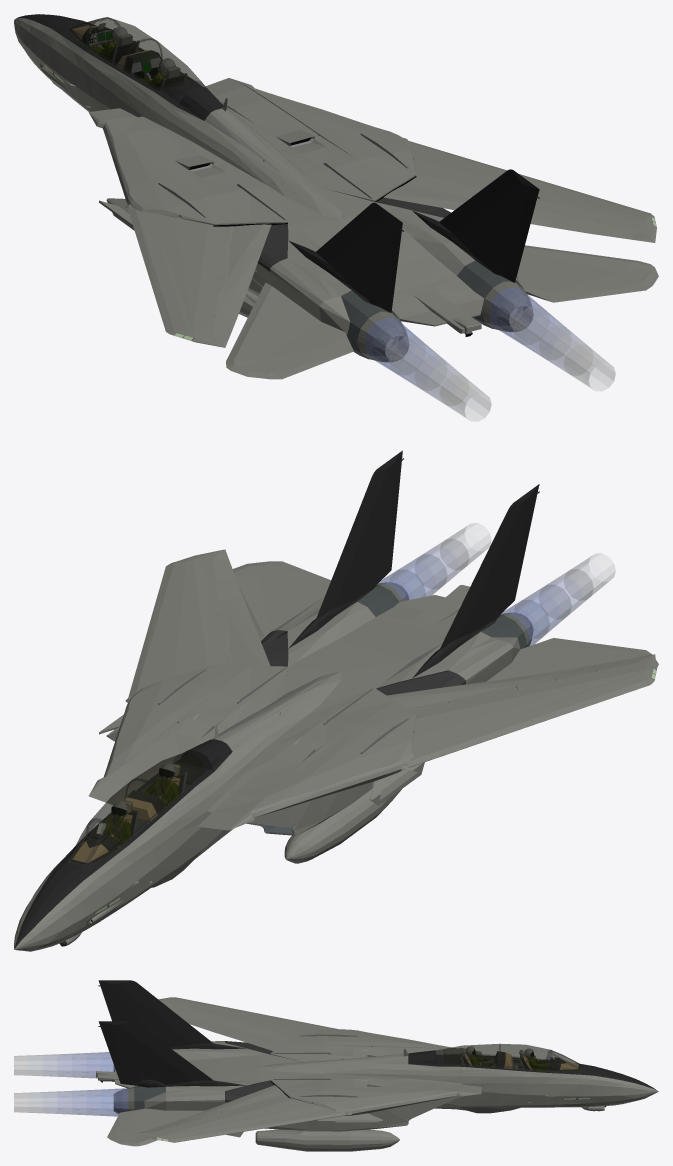
The picture shows the model from 3 angles, top to bottom: view 1: azimuth 30°, elevation 25°; view 2: azimuth 150°, elevation 25°; view 3: azimuth 270°, elevation 25°; orthographic projection. The views are drawn at different scales.
Visible parts, largest first — view 1: ShapeIndexedFaceSet_ShapeIndexedFaceSet.001, ShapeIndexedFaceSet.009_ShapeIndexedFaceSet.010, ShapeIndexedFaceSet.081_ShapeIndexedFaceSet.082, ShapeIndexedFaceSet.006_ShapeIndexedFaceSet.007, ShapeIndexedFaceSet.032_ShapeIndexedFaceSet.033, ShapeIndexedFaceSet.082_ShapeIndexedFaceSet.083, ShapeIndexedFaceSet.085_ShapeIndexedFaceSet.086, ShapeIndexedFaceSet.083_ShapeIndexedFaceSet.084, ShapeIndexedFaceSet.037_ShapeIndexedFaceSet.038, ShapeIndexedFaceSet.401_ShapeIndexedFaceSet.402, ShapeIndexedFaceSet.046_ShapeIndexedFaceSet.047, ShapeIndexedFaceSet.342_ShapeIndexedFaceSet.343 (+30 smaller); view 2: ShapeIndexedFaceSet_ShapeIndexedFaceSet.001, ShapeIndexedFaceSet.009_ShapeIndexedFaceSet.010, ShapeIndexedFaceSet.006_ShapeIndexedFaceSet.007, ShapeIndexedFaceSet.032_ShapeIndexedFaceSet.033, ShapeIndexedFaceSet.037_ShapeIndexedFaceSet.038, ShapeIndexedFaceSet.085_ShapeIndexedFaceSet.086, ShapeIndexedFaceSet.083_ShapeIndexedFaceSet.084, ShapeIndexedFaceSet.082_ShapeIndexedFaceSet.083, ShapeIndexedFaceSet.401_ShapeIndexedFaceSet.402, ShapeIndexedFaceSet.081_ShapeIndexedFaceSet.082, ShapeIndexedFaceSet.014_ShapeIndexedFaceSet.015, ShapeIndexedFaceSet.047_ShapeIndexedFaceSet.048 (+19 smaller); view 3: ShapeIndexedFaceSet_ShapeIndexedFaceSet.001, ShapeIndexedFaceSet.009_ShapeIndexedFaceSet.010, ShapeIndexedFaceSet.085_ShapeIndexedFaceSet.086, ShapeIndexedFaceSet.083_ShapeIndexedFaceSet.084, ShapeIndexedFaceSet.281_ShapeIndexedFaceSet.282, ShapeIndexedFaceSet.037_ShapeIndexedFaceSet.038, ShapeIndexedFaceSet.006_ShapeIndexedFaceSet.007, ShapeIndexedFaceSet.401_ShapeIndexedFaceSet.402, ShapeIndexedFaceSet.082_ShapeIndexedFaceSet.083, ShapeIndexedFaceSet.032_ShapeIndexedFaceSet.033, ShapeIndexedFaceSet.046_ShapeIndexedFaceSet.047, ShapeIndexedFaceSet.044_ShapeIndexedFaceSet.045 (+30 smaller).
Part boxes in pixels (x1,y1,x2,y2): ShapeIndexedFaceSet_ShapeIndexedFaceSet.001: (88, 78, 518, 335); ShapeIndexedFaceSet.009_ShapeIndexedFaceSet.010: (14, 18, 341, 219); ShapeIndexedFaceSet.081_ShapeIndexedFaceSet.082: (226, 282, 353, 379); ShapeIndexedFaceSet.006_ShapeIndexedFaceSet.007: (285, 188, 484, 334); ShapeIndexedFaceSet.032_ShapeIndexedFaceSet.033: (125, 204, 230, 347); ShapeIndexedFaceSet.082_ShapeIndexedFaceSet.083: (517, 245, 658, 302); ShapeIndexedFaceSet.085_ShapeIndexedFaceSet.086: (412, 169, 539, 273); ShapeIndexedFaceSet.083_ShapeIndexedFaceSet.084: (289, 202, 404, 303); ShapeIndexedFaceSet.037_ShapeIndexedFaceSet.038: (403, 138, 656, 242); ShapeIndexedFaceSet.401_ShapeIndexedFaceSet.402: (88, 18, 201, 96); ShapeIndexedFaceSet.046_ShapeIndexedFaceSet.047: (213, 224, 271, 332); ShapeIndexedFaceSet.342_ShapeIndexedFaceSet.343: (509, 305, 593, 375); ShapeIndexedFaceSet_ShapeIndexedFaceSet.001: (89, 597, 520, 835); ShapeIndexedFaceSet.009_ShapeIndexedFaceSet.010: (14, 671, 341, 951); ShapeIndexedFaceSet.006_ShapeIndexedFaceSet.007: (285, 585, 469, 702); ShapeIndexedFaceSet.032_ShapeIndexedFaceSet.033: (400, 654, 656, 769); ShapeIndexedFaceSet.037_ShapeIndexedFaceSet.038: (125, 549, 230, 702); ShapeIndexedFaceSet.085_ShapeIndexedFaceSet.086: (288, 450, 403, 648); ShapeIndexedFaceSet.083_ShapeIndexedFaceSet.084: (412, 484, 539, 678); ShapeIndexedFaceSet.082_ShapeIndexedFaceSet.083: (232, 561, 330, 641); ShapeIndexedFaceSet.401_ShapeIndexedFaceSet.402: (89, 753, 204, 841); ShapeIndexedFaceSet.081_ShapeIndexedFaceSet.082: (486, 638, 658, 681); ShapeIndexedFaceSet.014_ShapeIndexedFaceSet.015: (14, 739, 232, 948); ShapeIndexedFaceSet.047_ShapeIndexedFaceSet.048: (213, 564, 270, 666); ShapeIndexedFaceSet_ShapeIndexedFaceSet.001: (144, 1029, 481, 1131); ShapeIndexedFaceSet.009_ShapeIndexedFaceSet.010: (259, 1049, 658, 1107); ShapeIndexedFaceSet.085_ShapeIndexedFaceSet.086: (98, 1021, 246, 1087); ShapeIndexedFaceSet.083_ShapeIndexedFaceSet.084: (98, 980, 246, 1049); ShapeIndexedFaceSet.281_ShapeIndexedFaceSet.282: (255, 1129, 399, 1151); ShapeIndexedFaceSet.037_ShapeIndexedFaceSet.038: (137, 1098, 351, 1142); ShapeIndexedFaceSet.006_ShapeIndexedFaceSet.007: (96, 1054, 303, 1088); ShapeIndexedFaceSet.401_ShapeIndexedFaceSet.402: (443, 1044, 549, 1069); ShapeIndexedFaceSet.082_ShapeIndexedFaceSet.083: (107, 1108, 204, 1146); ShapeIndexedFaceSet.032_ShapeIndexedFaceSet.033: (158, 997, 338, 1037); ShapeIndexedFaceSet.046_ShapeIndexedFaceSet.047: (171, 1009, 284, 1050); ShapeIndexedFaceSet.044_ShapeIndexedFaceSet.045: (175, 1110, 332, 1142).
Size of the model in its own units: 119 by 50.09 by 223.
